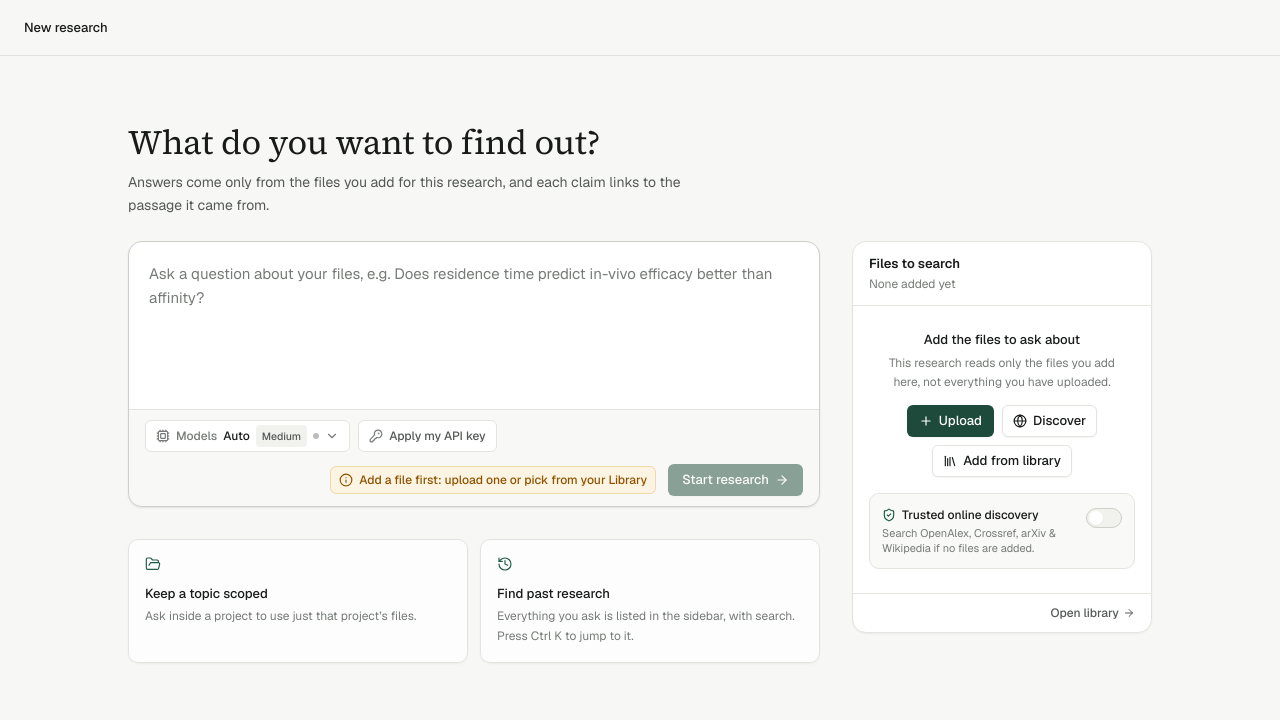
New research documents › starts with no documents and asks for one before sending
Check: the button "Add from library" is shown, box [932,445,1072,477]
Replace the text in the text box named "Research question" with "What is SEO?" at {"x": 474, "y": 322}, box [149,262,799,382]
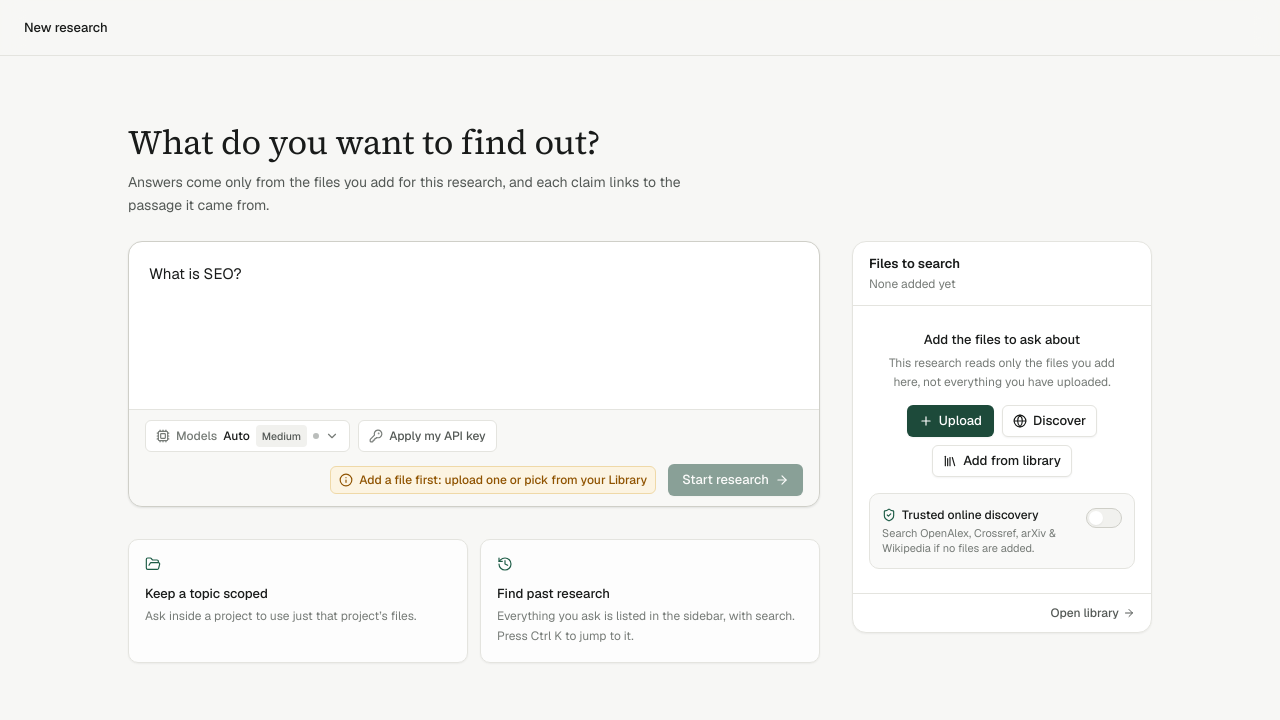
Check: the text "Add a file first: upload one or pick from your Library" is shown, box [359,471,647,489]
Trying anyway points at the files panel instead of doing nothing.
Click the button "Start research" at {"x": 736, "y": 480}, box [668,464,803,496]
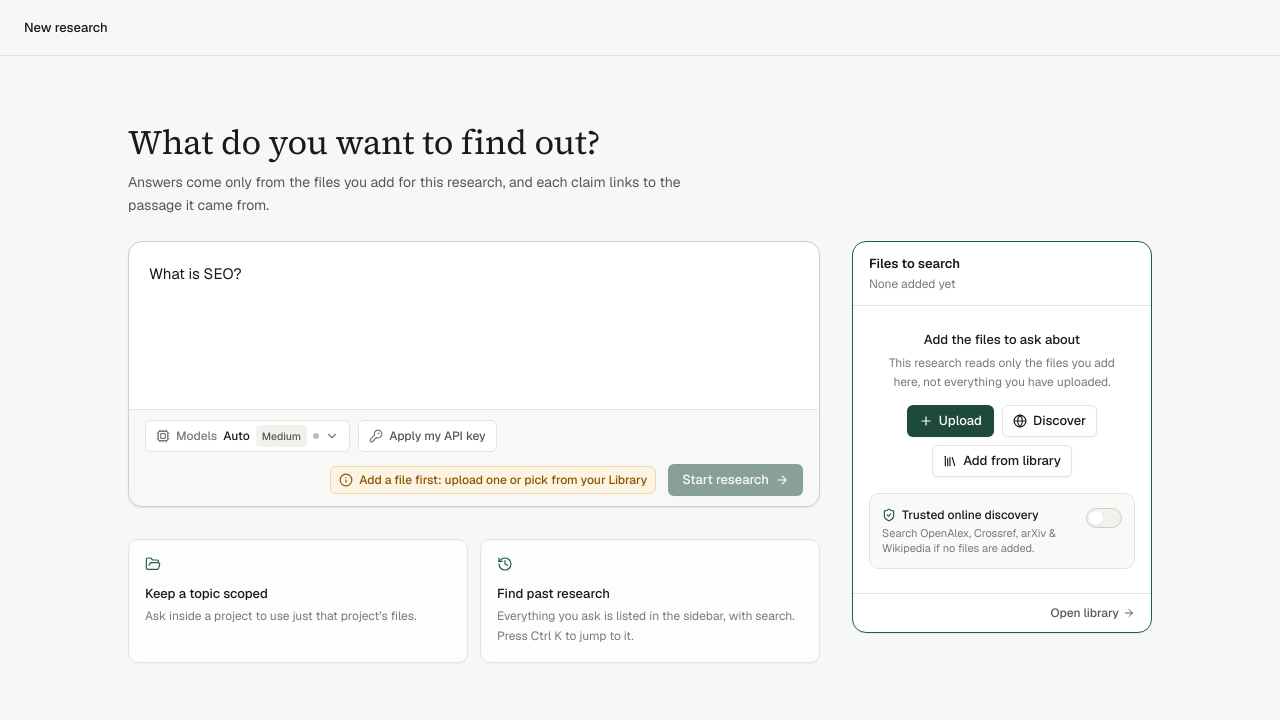
Check: the element named "Files for this research" has attribute data-highlighted="true", box [852,241,1152,633]
